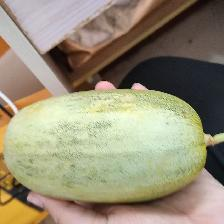gua: (43, 98, 218, 188)
